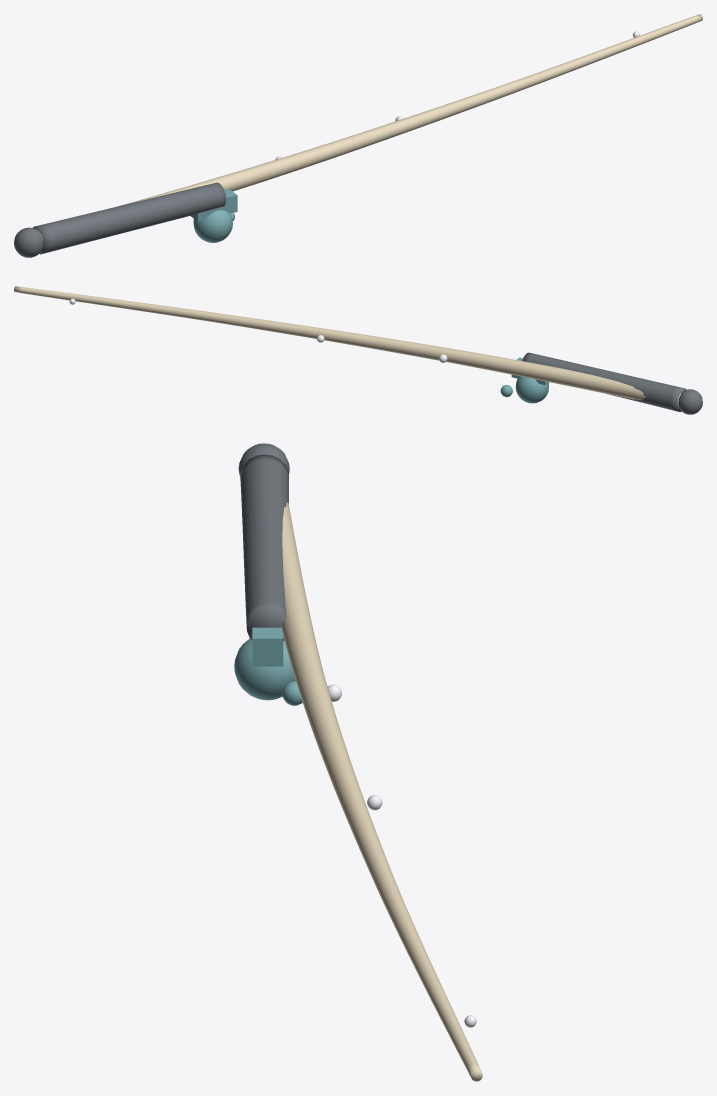
File: rod_v3.glb
3 views of the same model, one above another, from view 1: azimuth 30°, elevation 25°; view 2: azimuth 150°, elevation 25°; view 3: azimuth 270°, elevation 25° (orthographic). The views are drawn at different scales.
Parts seen in each view (by area): view 1: Shaft, Grip, ReelSpool, ButtCap, ReelFoot; view 2: Shaft, Grip, ReelSpool, ButtCap; view 3: Shaft, Grip, ReelSpool, ReelFoot.
Part boxes in pixels (x1=…): Shaft: x1=37, y1=14, x2=702, y2=239; Grip: x1=33, y1=182, x2=225, y2=254; ReelSpool: x1=193, y1=210, x2=232, y2=242; ButtCap: x1=14, y1=227, x2=43, y2=257; ReelFoot: x1=190, y1=188, x2=237, y2=221; Shaft: x1=14, y1=286, x2=681, y2=407; Grip: x1=522, y1=352, x2=686, y2=411; ReelSpool: x1=515, y1=376, x2=548, y2=403; ButtCap: x1=678, y1=389, x2=702, y2=414; Shaft: x1=281, y1=502, x2=482, y2=1081; Grip: x1=240, y1=454, x2=288, y2=640; ReelSpool: x1=234, y1=638, x2=295, y2=700; ReelFoot: x1=252, y1=627, x2=283, y2=666.
Size of the model in its own units: 0.5654 by 0.0419 by 0.0961.
